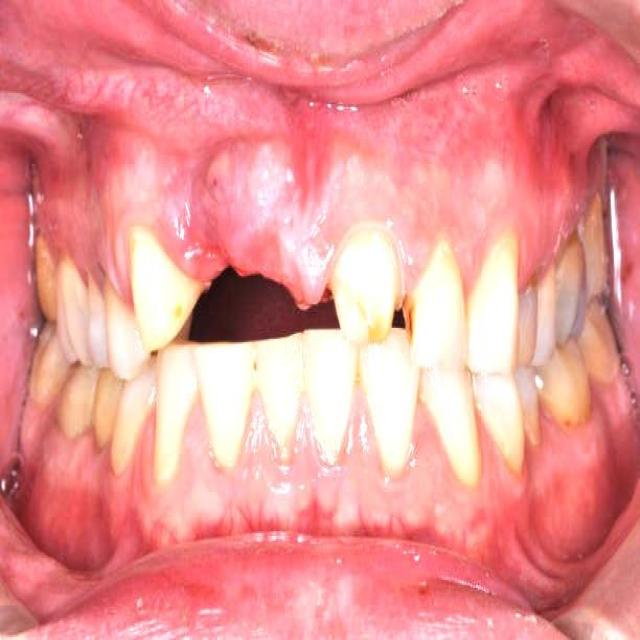caries: (390, 286, 432, 356)
